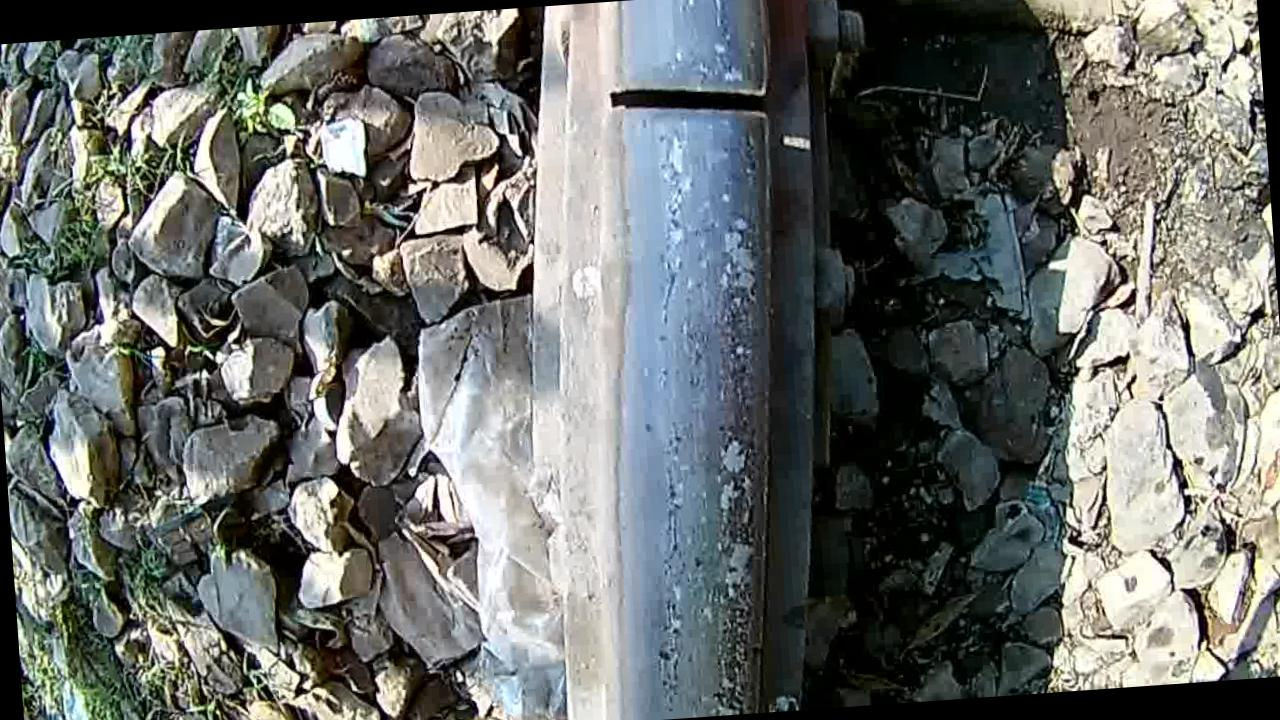clip_missing: (583, 147, 817, 720)
